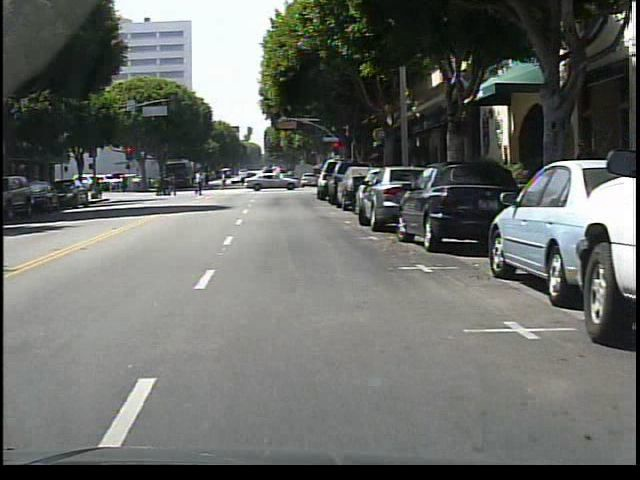person: (189, 168, 209, 198)
